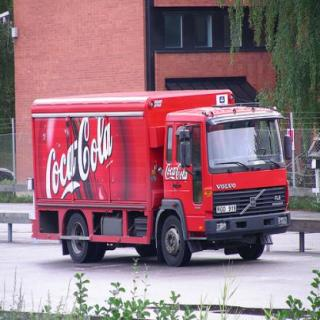Normal_vehicle: (26, 85, 292, 264)
